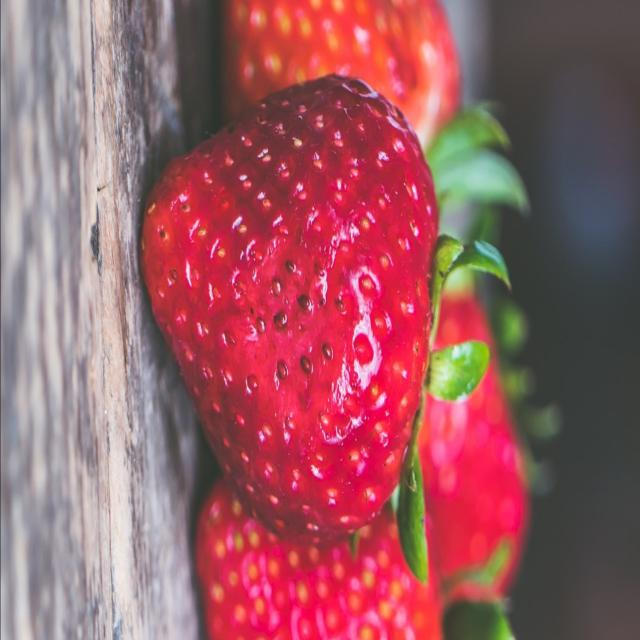strawberry: (110, 41, 483, 553)
